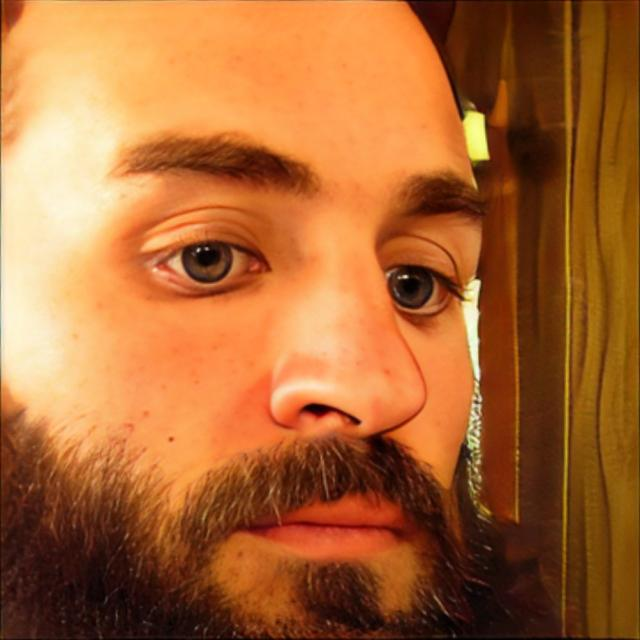neutral: (4, 0, 492, 640)
